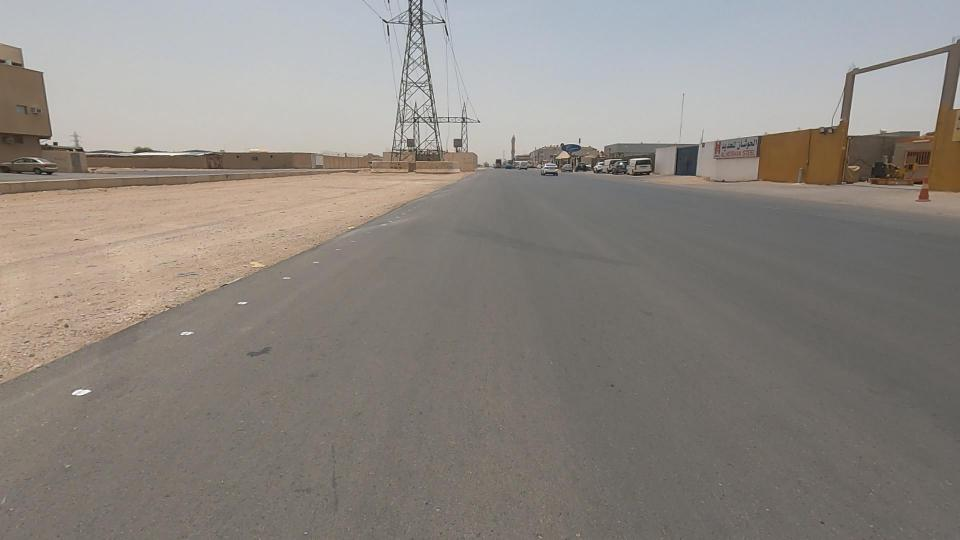CONSTRUCTION_ROAD: (0, 150, 361, 331), (151, 137, 469, 255)
